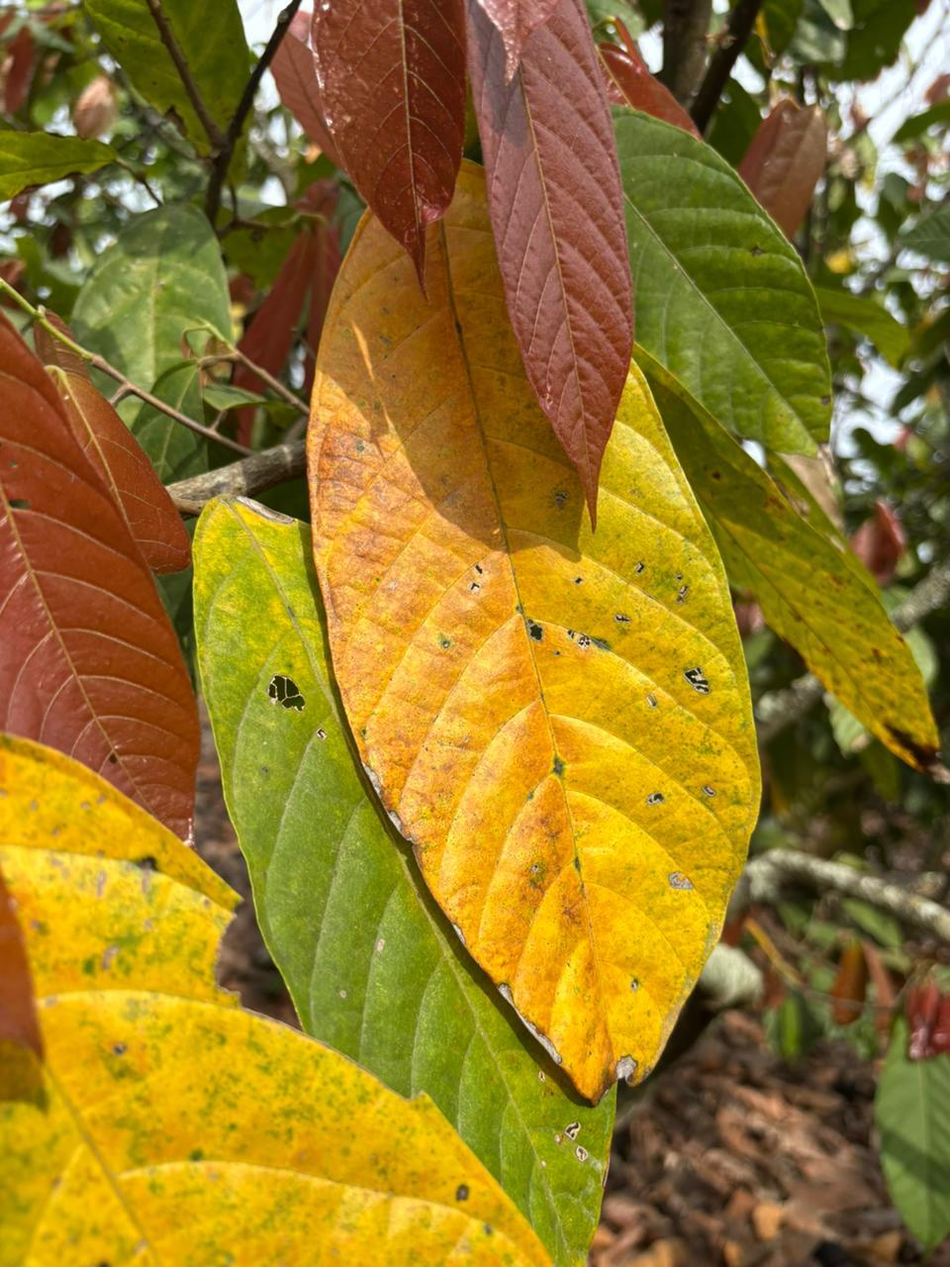deficienciia_fosforo: (309, 165, 758, 1099)
